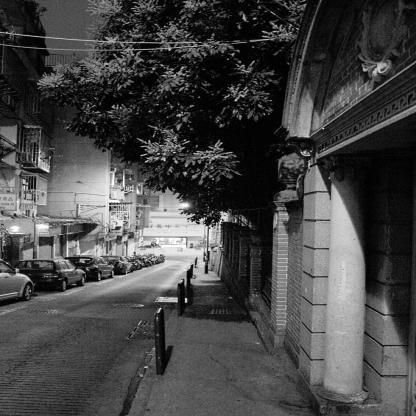Car: (0, 252, 168, 302)
